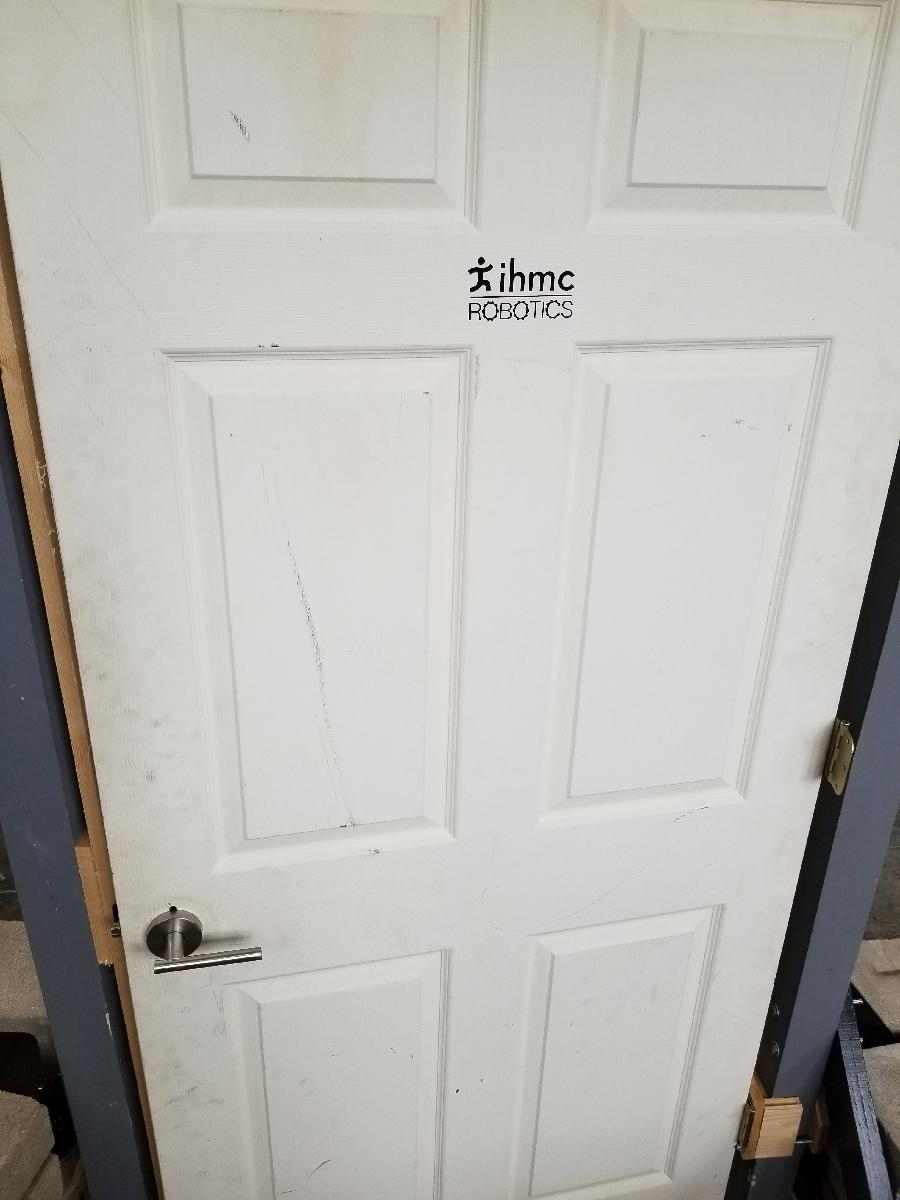doorHandle: (143, 907, 269, 981)
